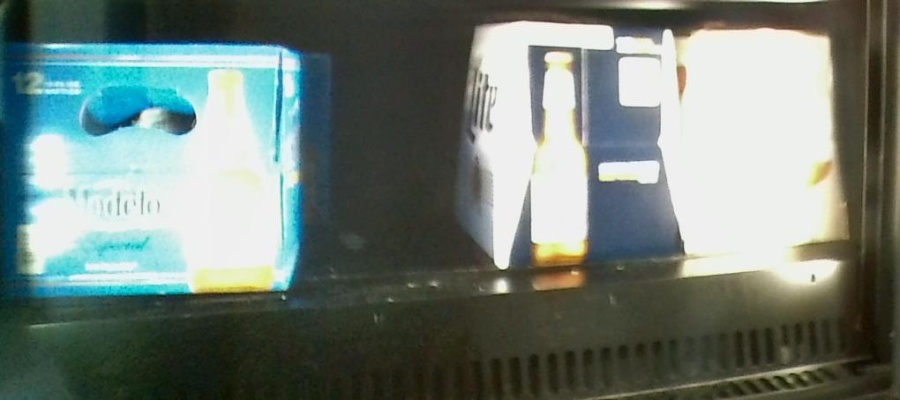bottle: (1, 42, 300, 296), (472, 21, 685, 263), (685, 28, 847, 257)
